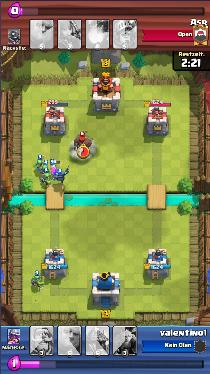ally_archer: (51, 166, 58, 179)
ally_mini_pekka: (53, 166, 70, 184)
ally_spear_goblin: (31, 275, 45, 291), (35, 156, 44, 172), (42, 175, 53, 187), (40, 162, 48, 175)
enemy_hunter: (73, 137, 92, 152)
